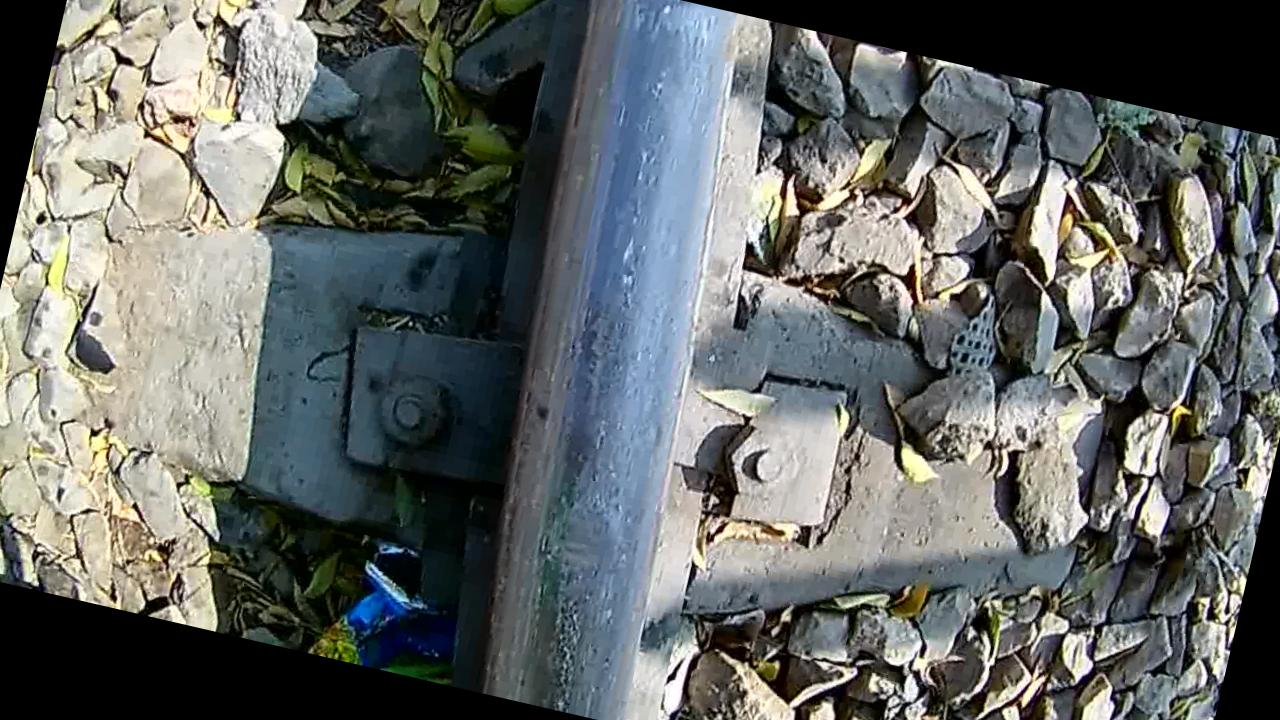bolt_missing: (460, 265, 705, 720)
